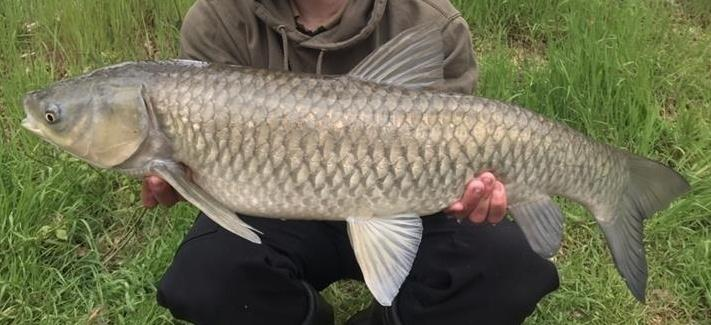Grass Carp: (17, 23, 695, 309)
